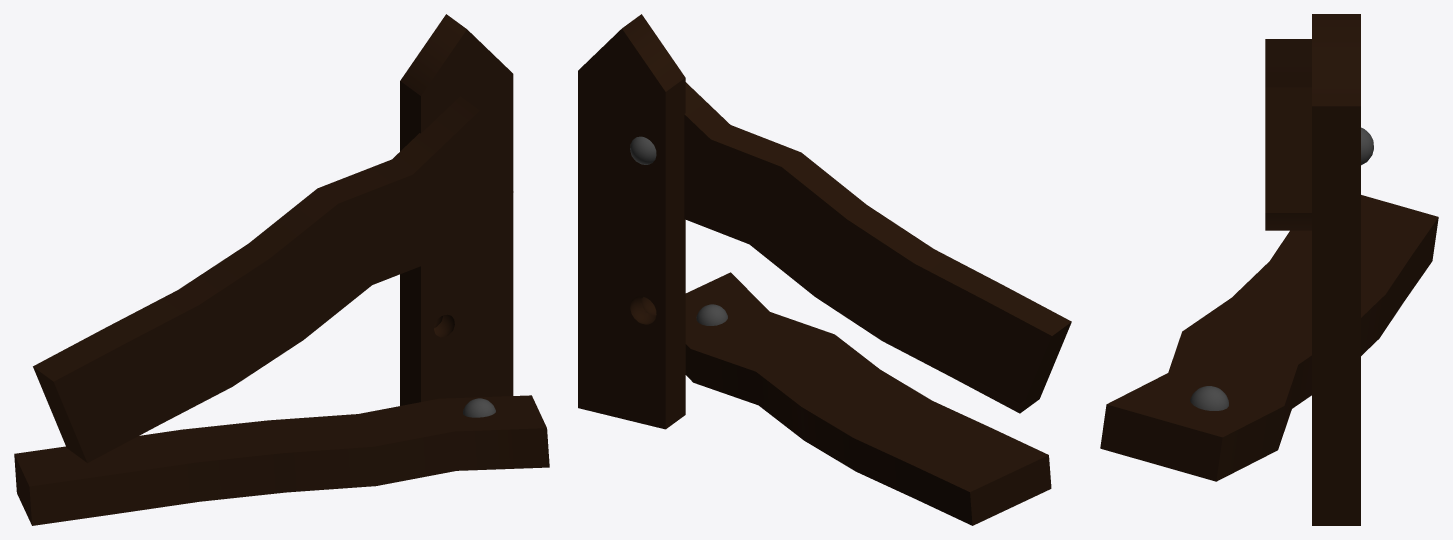
File: padok1.fbx
3 renders of one model, left to right at view 1: azimuth 30°, elevation 25°; view 2: azimuth 150°, elevation 25°; view 3: azimuth 270°, elevation 25°, orthographic. The views are drawn at different scales.
Visible parts, largest first — view 1: padok 052, padok 048, padok 050; view 2: padok 052, padok 050, padok 048, padok 051; view 3: padok 048, padok 050, padok 052, padok 049.
Part boxes in pixels (x1=…): padok 052: x1=33, y1=96, x2=513, y2=462; padok 048: x1=14, y1=395, x2=549, y2=525; padok 050: x1=400, y1=14, x2=513, y2=405; padok 052: x1=684, y1=82, x2=1071, y2=413; padok 050: x1=578, y1=14, x2=685, y2=429; padok 048: x1=685, y1=272, x2=1051, y2=525; padok 051: x1=630, y1=136, x2=656, y2=164; padok 048: x1=1100, y1=195, x2=1438, y2=481; padok 050: x1=1312, y1=14, x2=1360, y2=525; padok 052: x1=1265, y1=39, x2=1311, y2=230; padok 049: x1=1190, y1=386, x2=1228, y2=410.
Bounding box in the file's own units: 24.6 × 20.15 × 12.74.
